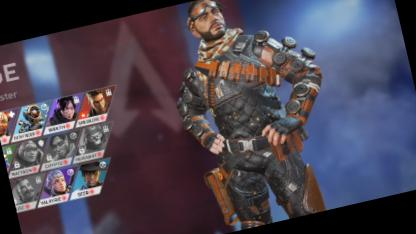Target: (169, 0, 333, 208)
